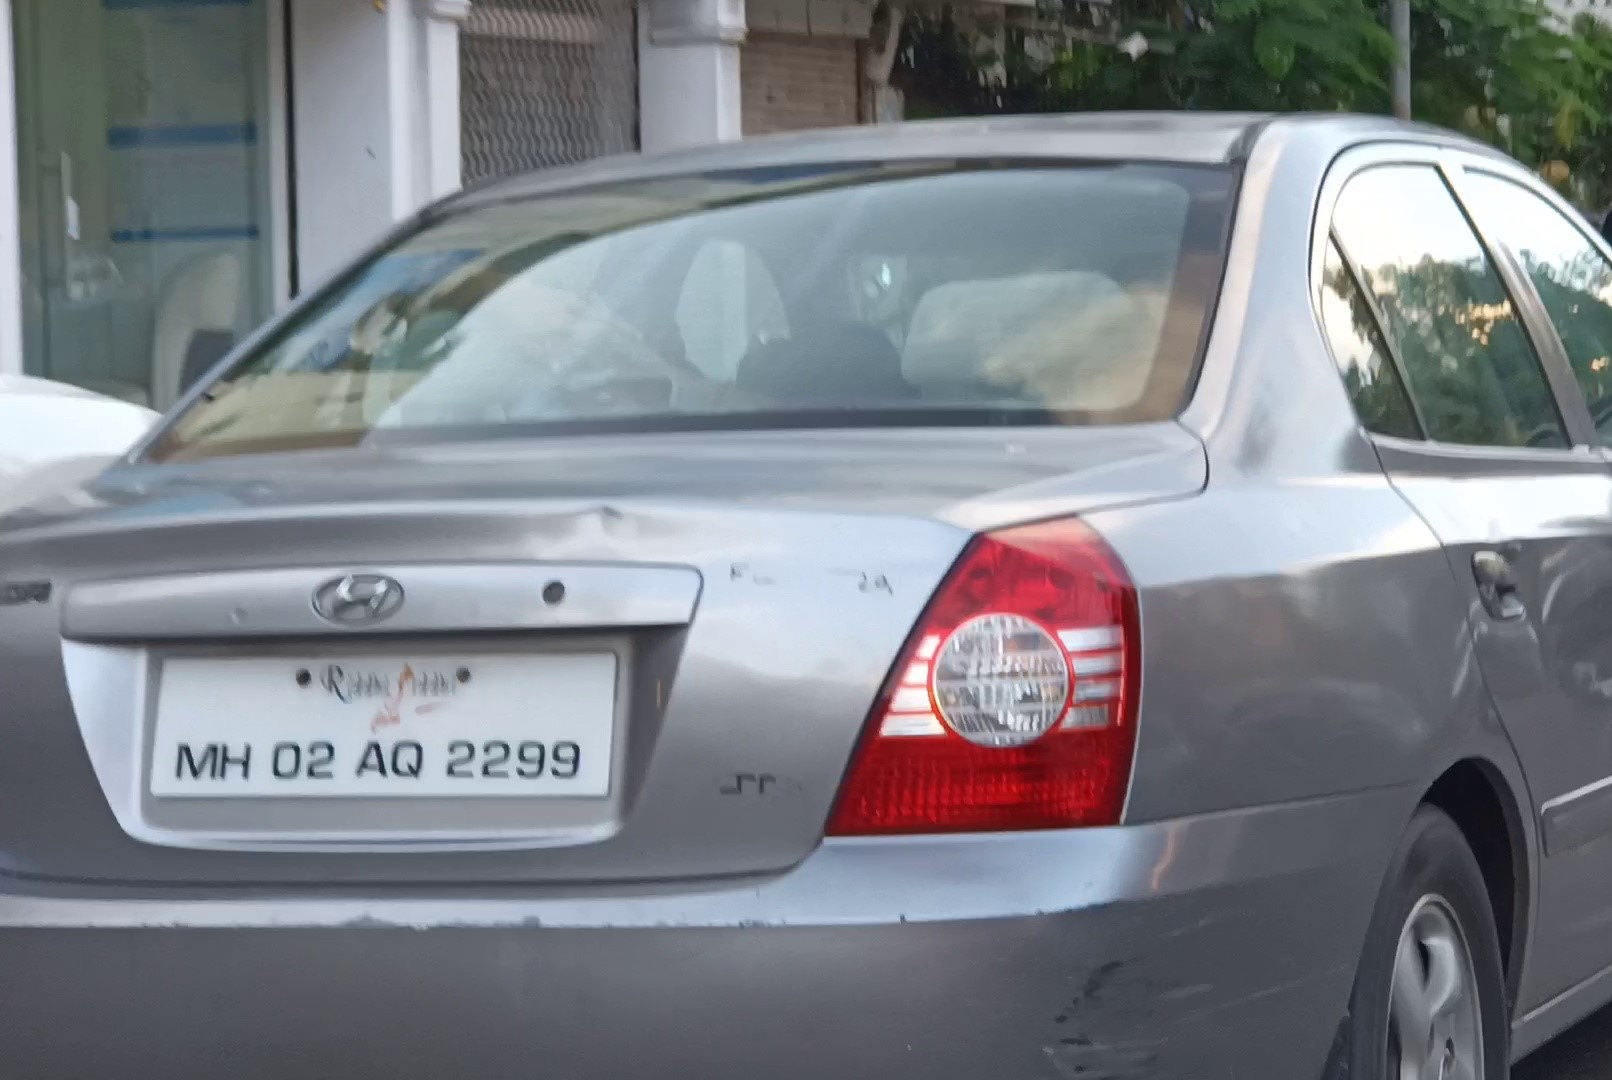MH02AQ2299: (147, 648, 618, 798)
